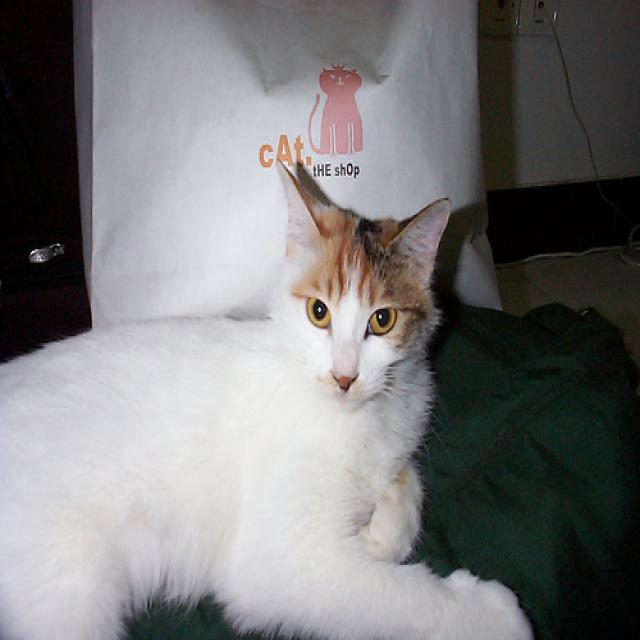cat: (1, 158, 536, 639)
